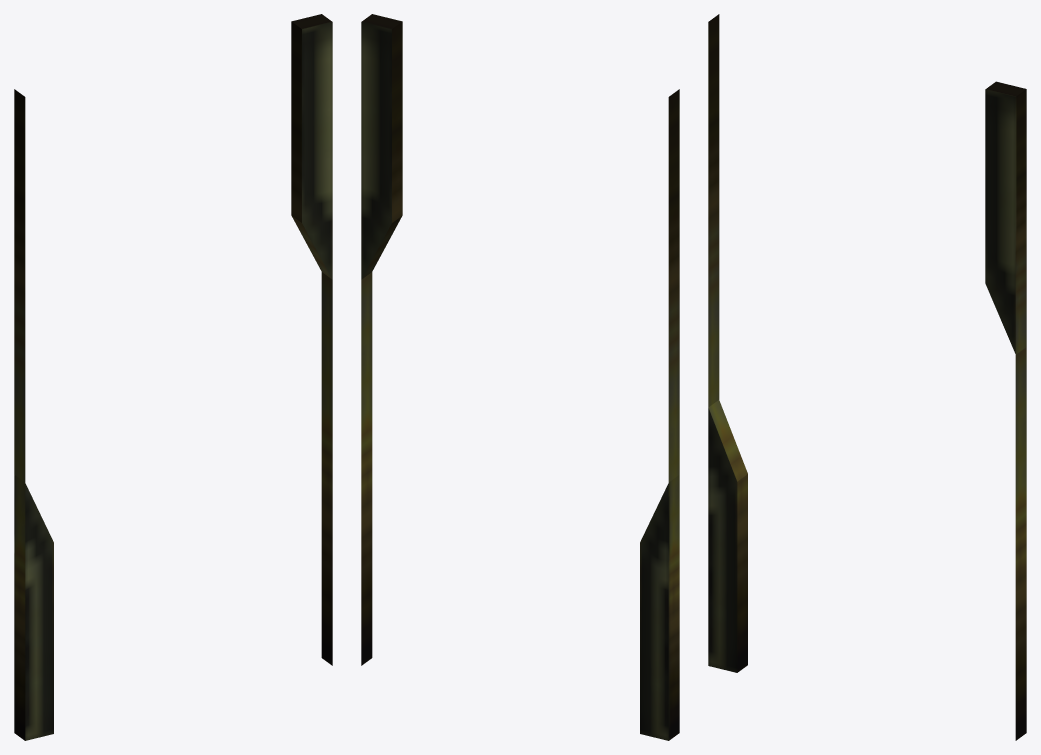
Rendered from door_2_open.obj.
3 renders of one model, left to right at view 1: azimuth 30°, elevation 25°; view 2: azimuth 150°, elevation 25°; view 3: azimuth 330°, elevation 25°, orthographic.
Visible parts, largest first — view 1: Cube_Cube.000; view 2: Cube_Cube.000; view 3: Cube_Cube.000.
Part boxes in pixels (x1,y1,x2,y2): Cube_Cube.000: (14, 14, 332, 740); Cube_Cube.000: (361, 14, 679, 740); Cube_Cube.000: (708, 14, 1026, 740).
Bounding box in the file's own units: 0.998 × 2 × 0.0606.
